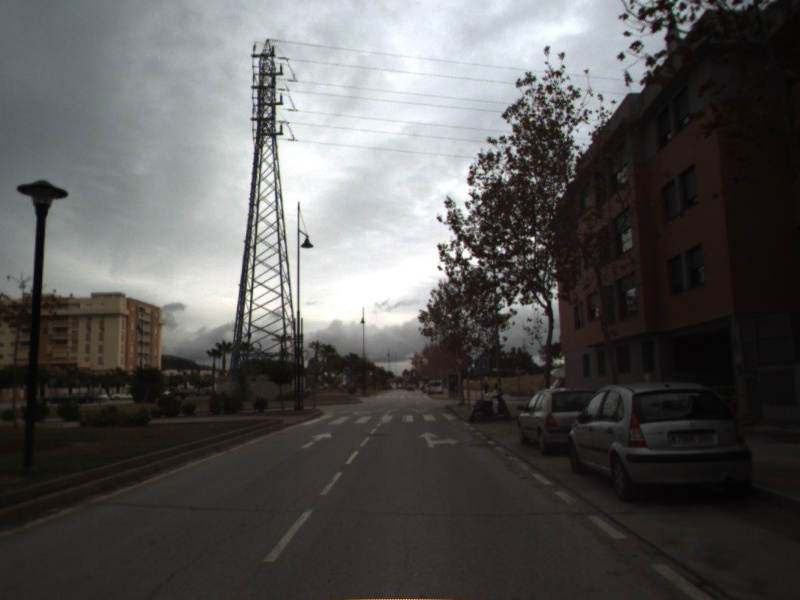STRAIGHT: (299, 430, 335, 451)
STRAIGHT_RIGHT: (416, 429, 461, 450)
